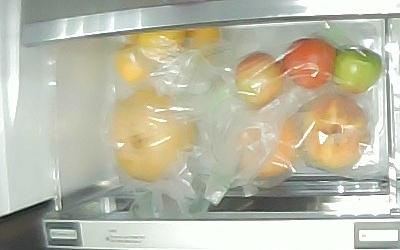peach_vinyl: (301, 94, 368, 172), (236, 112, 299, 178)
pear_vinyl: (110, 89, 197, 181)
tangerine_vinyl: (115, 43, 155, 86), (136, 29, 185, 61), (179, 27, 222, 58)
tomato_vinyl: (234, 51, 283, 109), (284, 38, 335, 89), (335, 44, 383, 96)
